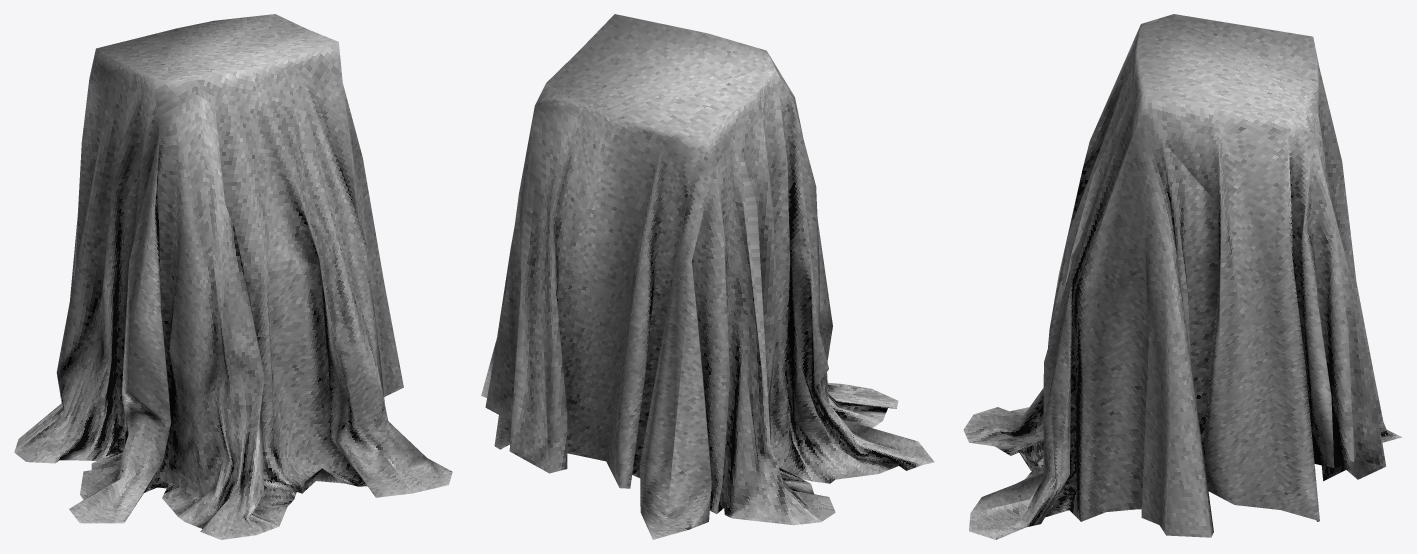
Rendered from cloth.glb.
3 views of the same model, side by side, from view 1: azimuth 30°, elevation 25°; view 2: azimuth 150°, elevation 25°; view 3: azimuth 270°, elevation 25° (orthographic). The views are drawn at different scales.
Parts seen in each view (by area): view 1: cloth; view 2: cloth; view 3: cloth.
Part boxes in pixels (x1,y1,x2,y2): cloth: (14, 14, 452, 539); cloth: (481, 14, 934, 539); cloth: (963, 14, 1401, 539).
Bounding box in the file's own units: 1.43 × 1.49 × 1.4.
1 material, 1 textured.
